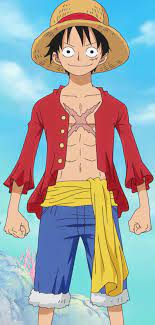Luffy: (50, 1, 110, 78)
